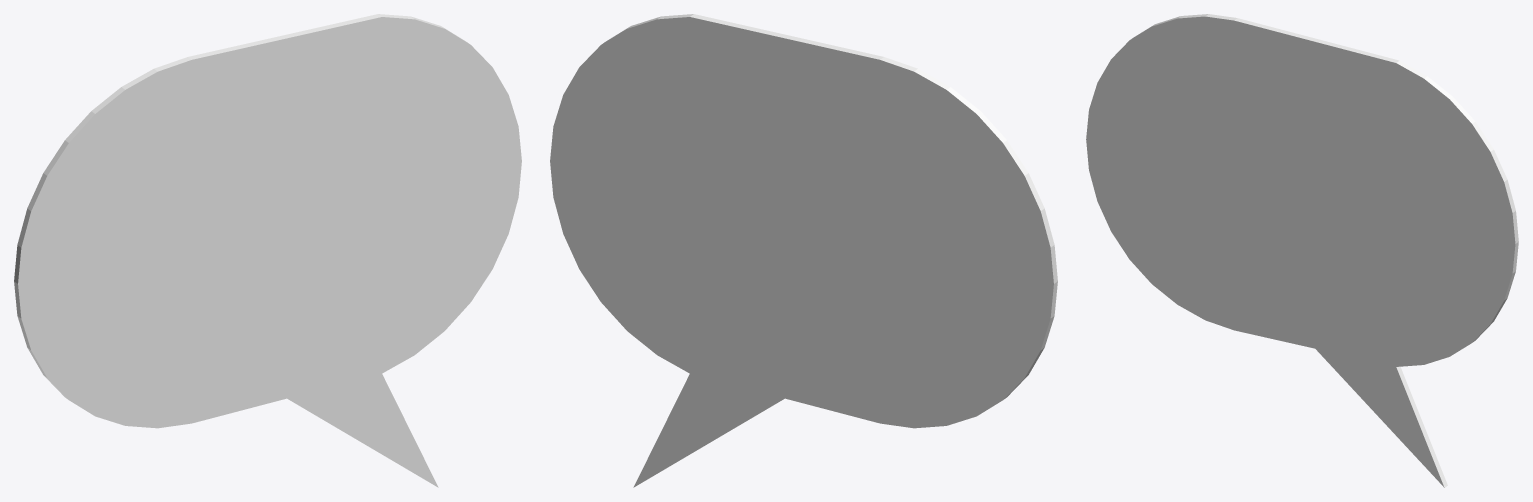
File: User_Icon_01.fbx
The picture shows the model from 3 angles, left to right: view 1: azimuth 30°, elevation 25°; view 2: azimuth 150°, elevation 25°; view 3: azimuth 330°, elevation 25°; orthographic projection. The views are drawn at different scales.
Parts seen in each view (by area): view 1: Text_Message_3D_Icon_01; view 2: Text_Message_3D_Icon_01; view 3: Text_Message_3D_Icon_01.
Part boxes in pixels (x1,y1,x2,y2): Text_Message_3D_Icon_01: (14, 14, 521, 487); Text_Message_3D_Icon_01: (550, 14, 1057, 487); Text_Message_3D_Icon_01: (1086, 14, 1518, 487).
Bounding box in the file's own units: 145 × 134 × 2.
